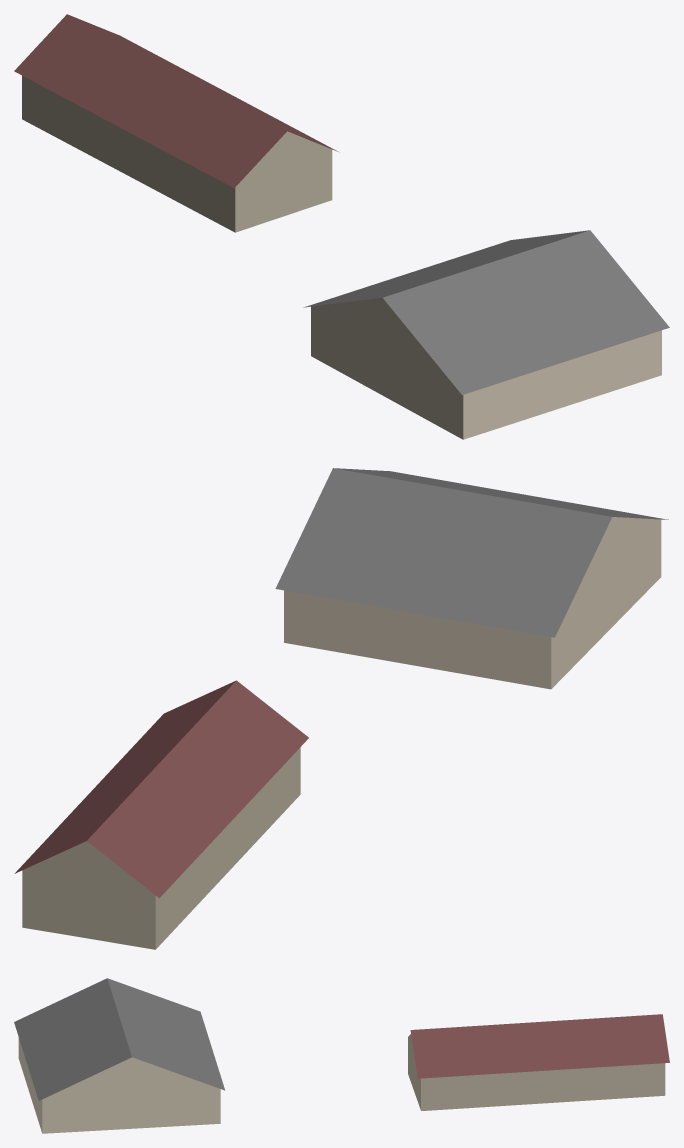
3 renders of one model, top to bottom at view 1: azimuth 30°, elevation 25°; view 2: azimuth 150°, elevation 25°; view 3: azimuth 270°, elevation 25°, orthographic. The views are drawn at different scales.
Parts seen in each view (by area): view 1: tuile; view 2: tuile; view 3: tuile.
Part boxes in pixels (x1,y1,x2,y2): tuile: (14, 14, 669, 439); tuile: (14, 468, 668, 949); tuile: (14, 978, 669, 1133).
Size of the model in its own units: 18.16 by 7 by 56.22.
